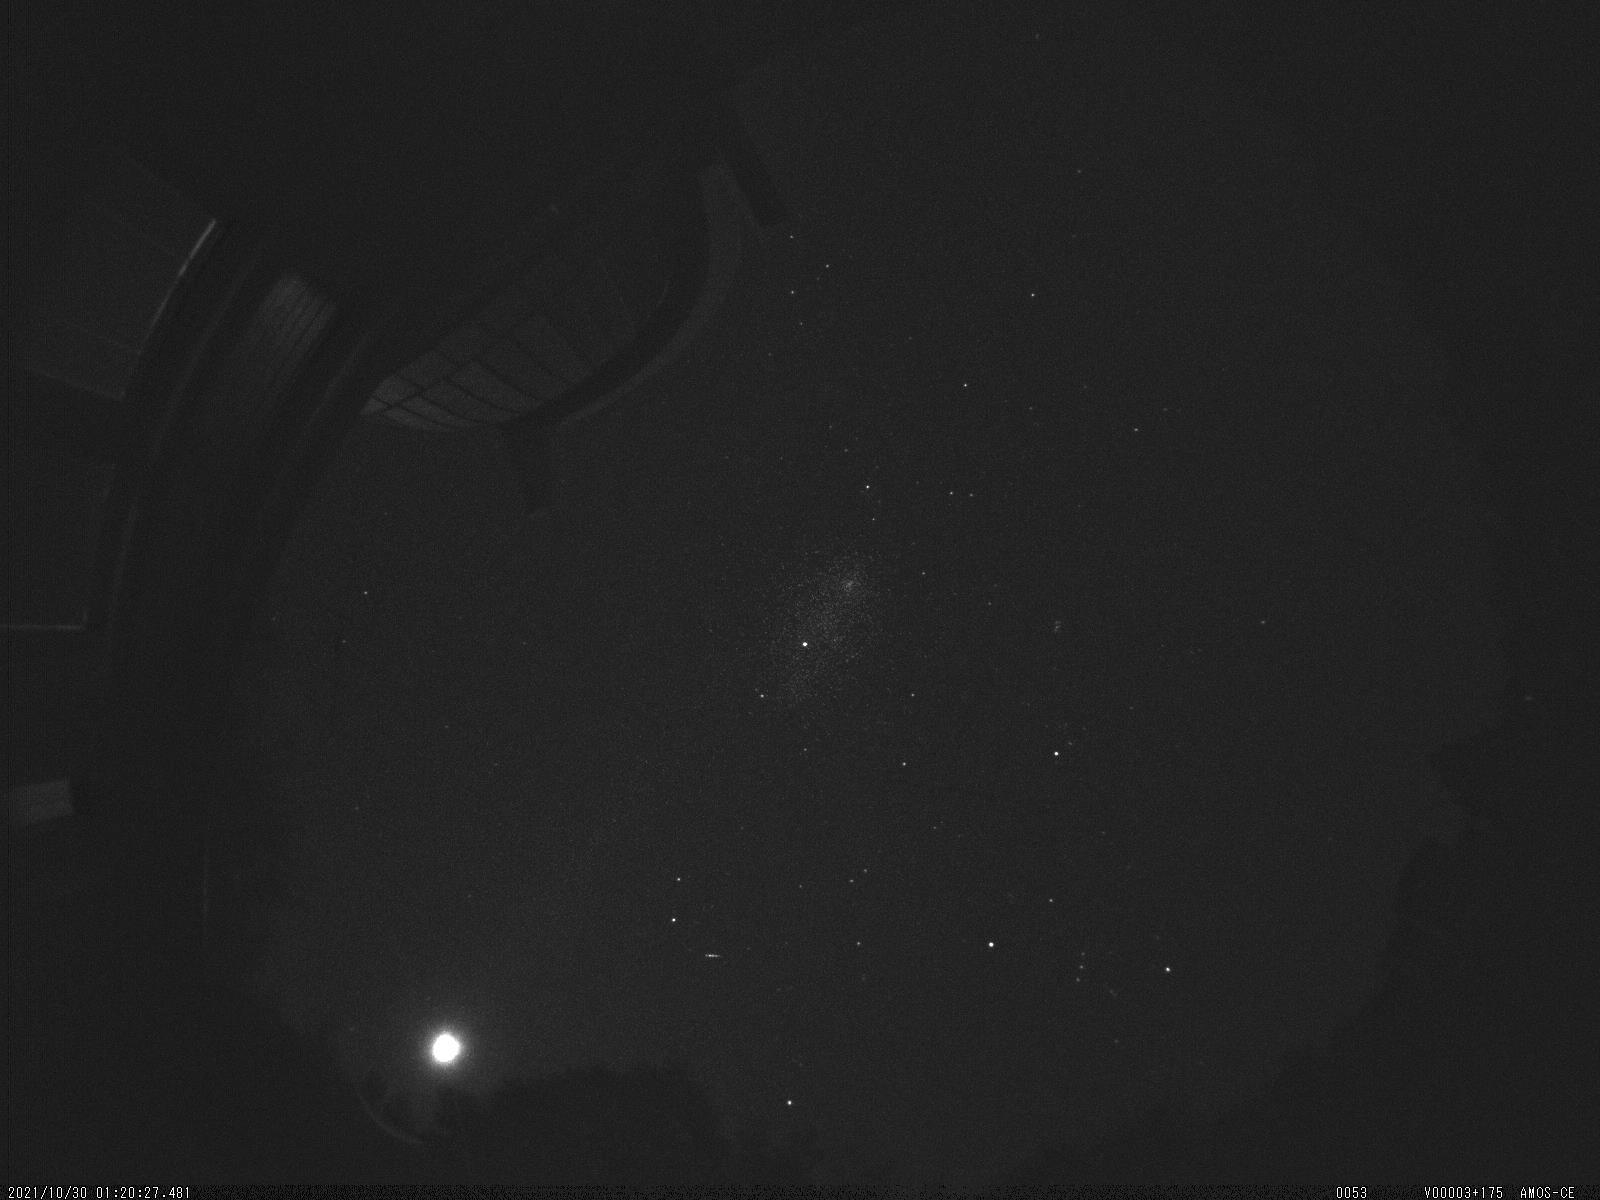Meteor: (694, 945, 734, 964)
